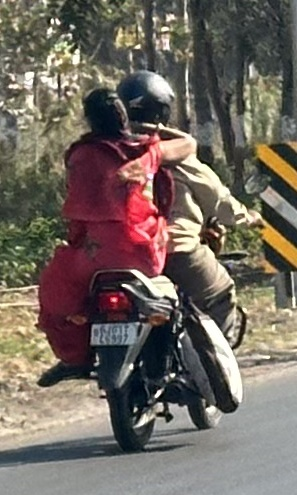BikeWithRider: (24, 65, 270, 459)
Helmet: (110, 65, 181, 142)
NoHelmet: (73, 81, 136, 146)
